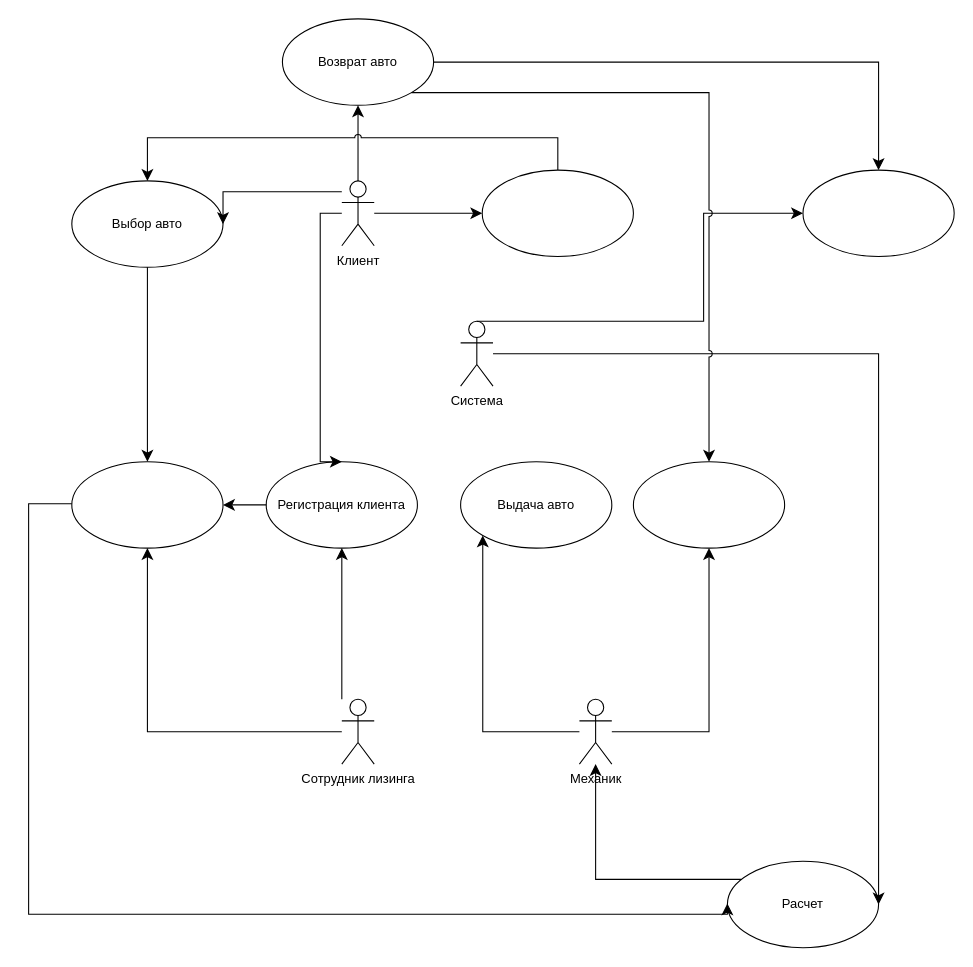
Some shapes in this 973 by 967 pixel diagram are drawn without their labels. Here are the shapes that lost their labels. From the top down, the centre of each, then its label:
At pixel 557 212: "Просмотре доступных авто".
At pixel 878 212: "Обновление данных".
At pixel 147 504: "оформление аренды".
At pixel 708 504: "Проверка состояния".
